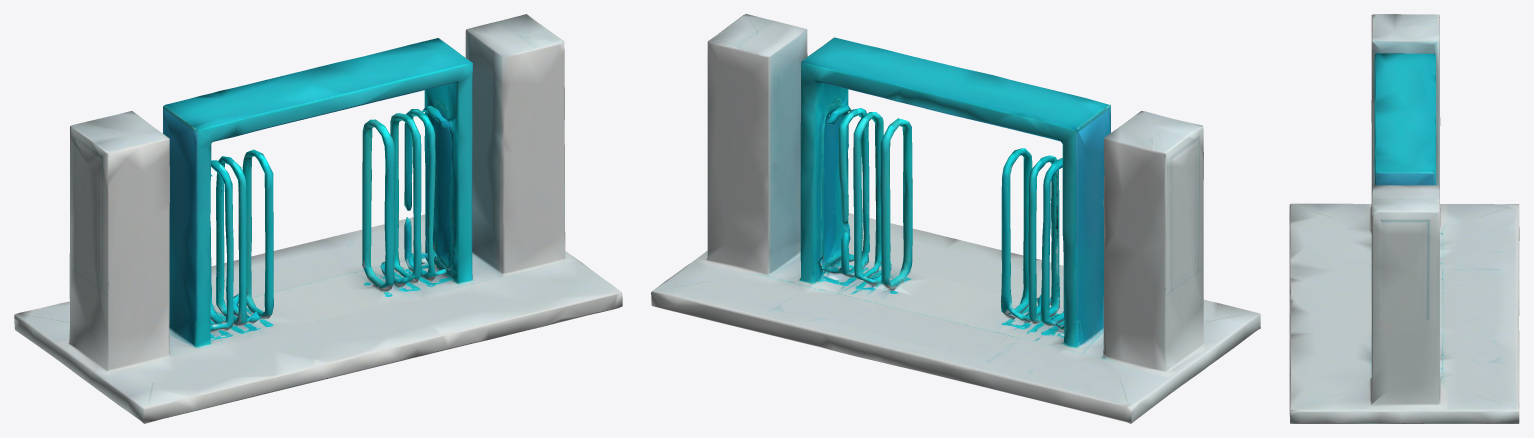
File: Rectangular_gate_obst_1028222702_texture.glb
3 renders of one model, left to right at view 1: azimuth 30°, elevation 25°; view 2: azimuth 150°, elevation 25°; view 3: azimuth 270°, elevation 25°, orthographic. The views are drawn at different scales.
Visible parts, largest first — view 1: Mesh1.0; view 2: Mesh1.0; view 3: Mesh1.0.
Part boxes in pixels (x1,y1,x2,y2): Mesh1.0: (14,14,622,423); Mesh1.0: (651,14,1260,423); Mesh1.0: (1289,14,1519,423).
Size of the model in its own units: 2.01 by 0.9411 by 0.9402.
1 material, 1 textured.
